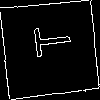T: (24, 23, 72, 60)
